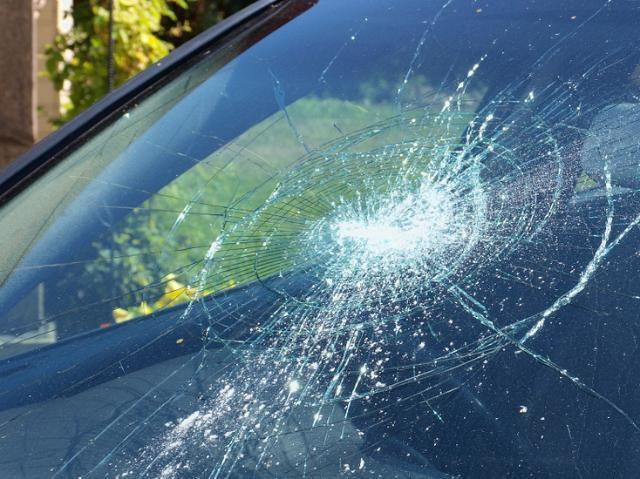Windshield: (1, 0, 640, 479)
